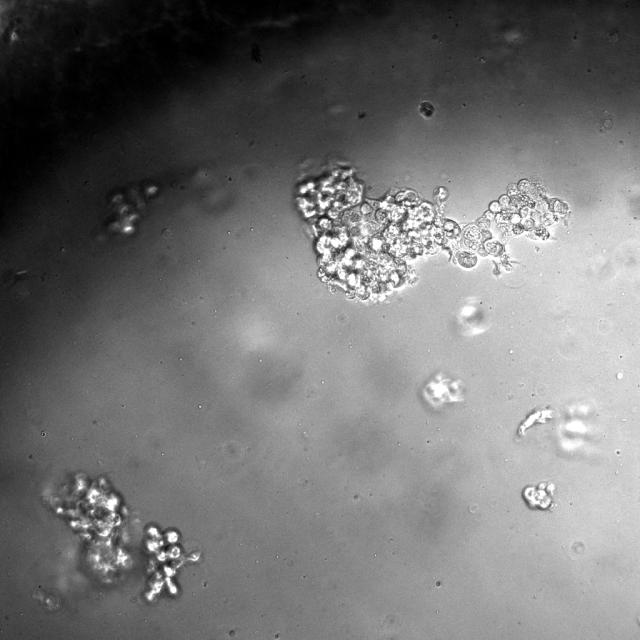organoid: (293, 160, 573, 302), (34, 473, 200, 610), (97, 181, 158, 240), (422, 373, 464, 409), (522, 481, 555, 510), (419, 100, 434, 119)
